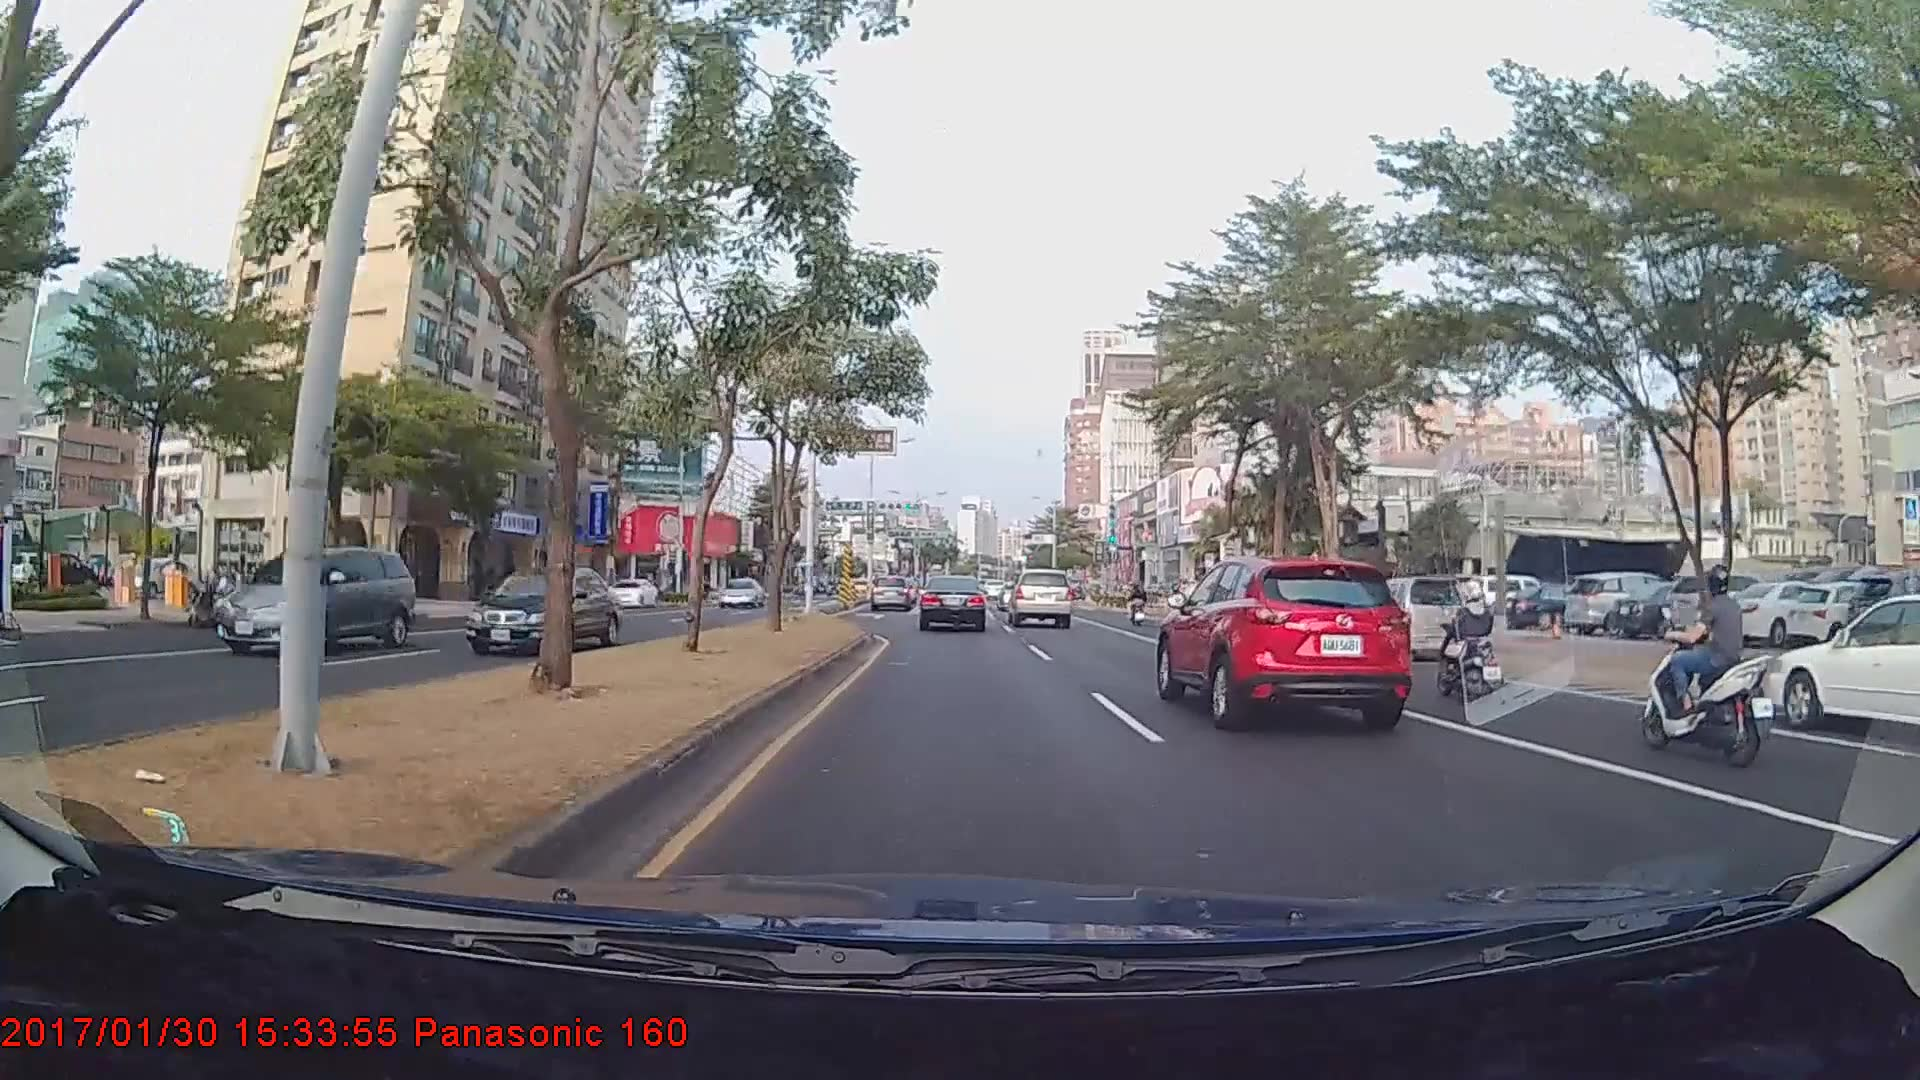rider: (1631, 555, 1782, 767), (1422, 574, 1515, 704), (1128, 583, 1155, 628)
vehicle: (1153, 550, 1410, 730), (1765, 590, 1919, 747), (214, 545, 415, 655), (462, 565, 625, 654), (1352, 574, 1463, 660), (1559, 570, 1686, 636), (1006, 566, 1072, 629), (918, 574, 987, 632), (867, 572, 919, 613), (606, 576, 656, 609), (717, 576, 765, 608)
